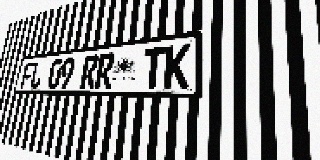0: (47, 59, 63, 89)
9: (58, 57, 76, 89)
F: (20, 62, 35, 89)
K: (164, 43, 190, 88)
L: (29, 61, 44, 89)
R: (95, 52, 115, 88), (80, 54, 99, 88)
T: (141, 46, 166, 88)
